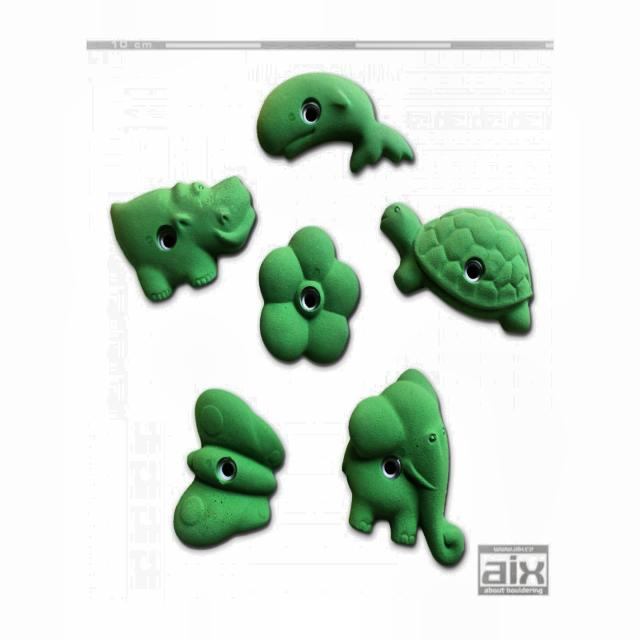Hold: (339, 366, 465, 562), (378, 200, 544, 334), (171, 379, 281, 543), (112, 180, 257, 300), (255, 70, 418, 172), (260, 228, 359, 363)
